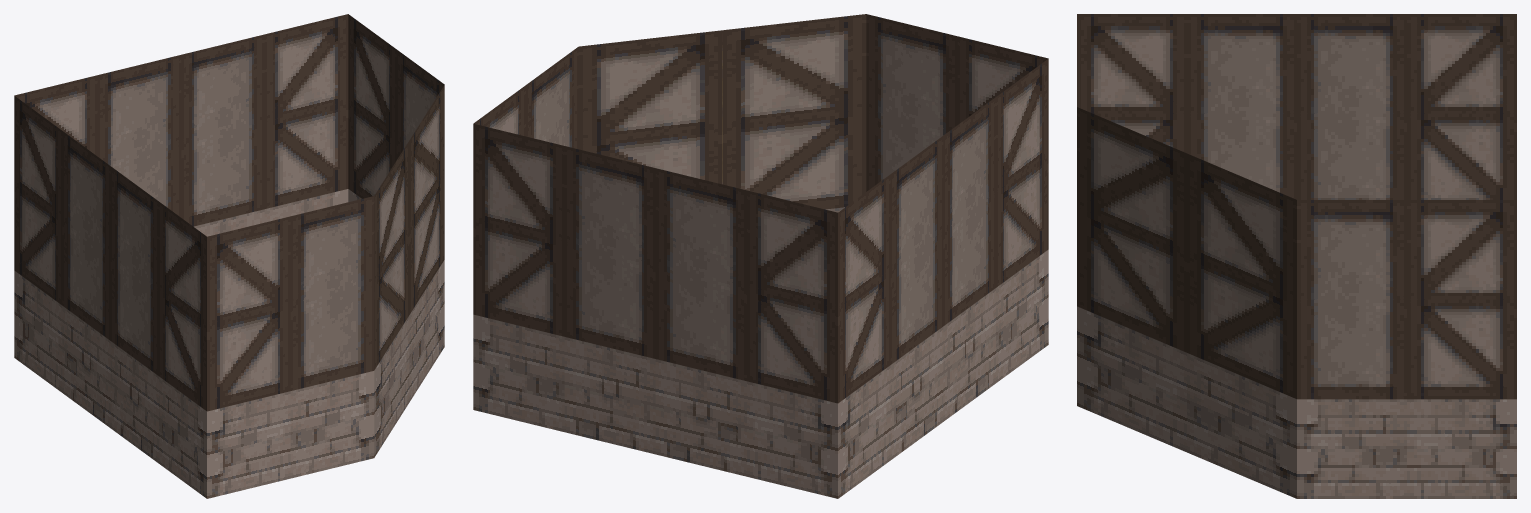
Rendered from plaster_wall_stone_base_cornered_alt.glb.
3 views of the same model, side by side, from view 1: azimuth 30°, elevation 25°; view 2: azimuth 150°, elevation 25°; view 3: azimuth 270°, elevation 25° (orthographic). The views are drawn at different scales.
Visible parts, largest first — view 1: plaster_wall_stone_base_cornered_alt; view 2: plaster_wall_stone_base_cornered_alt; view 3: plaster_wall_stone_base_cornered_alt.
Boxes of the visible parts, x1,y1,x2,y2 form: plaster_wall_stone_base_cornered_alt: [14, 14, 444, 498]; plaster_wall_stone_base_cornered_alt: [473, 14, 1048, 498]; plaster_wall_stone_base_cornered_alt: [1077, 14, 1516, 498].
Bounding box in the file's own units: 5 × 3.75 × 5.
Materials: 1 (1 with a texture image).
